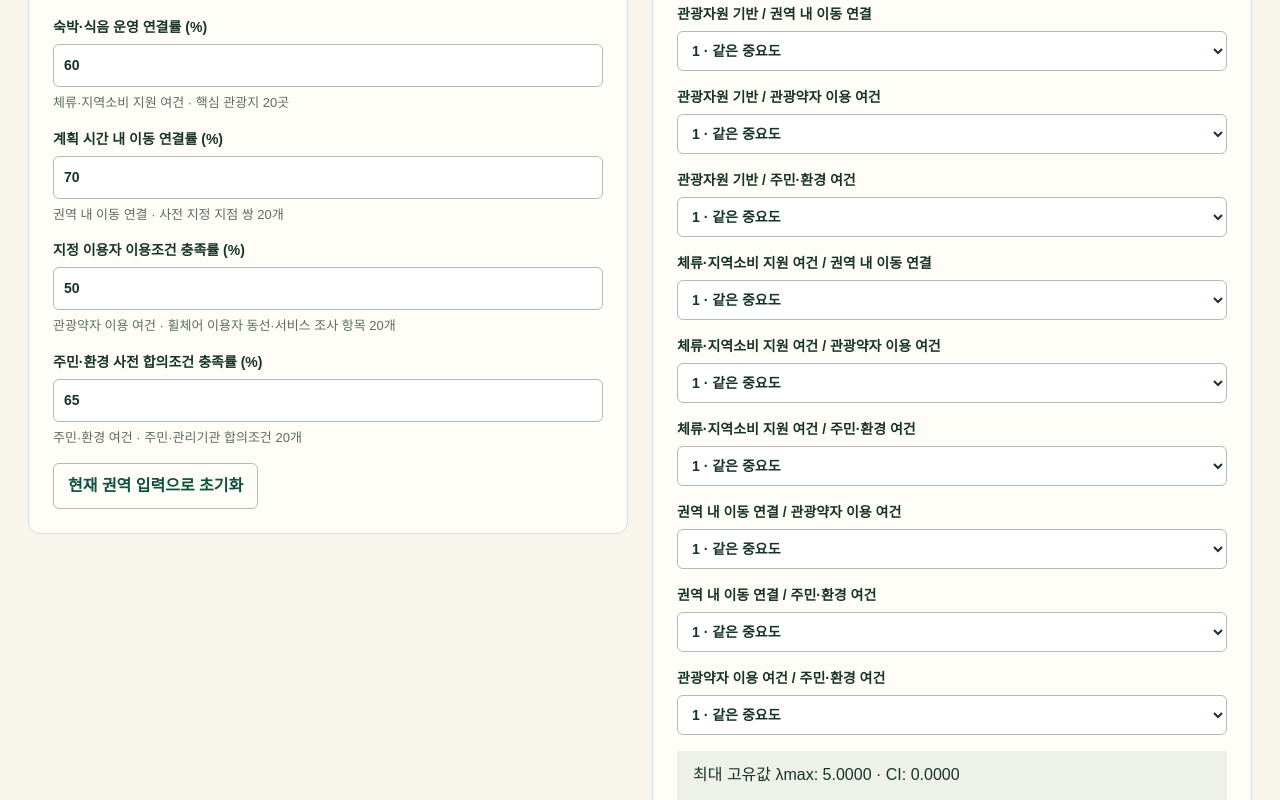
Scenario: evaluation laboratory › uses edited independent observations in both the total and the calculation trace
(page scrolled)
Replace the text in the number field labelled "주민·환경 사전 합의조건 충족률 (%) 주민·환경 여건 · 주민·관리기관 합의조건 20개" with "0" at (328,400), box x1=53 y1=379 x2=603 y2=422
(page scrolled)
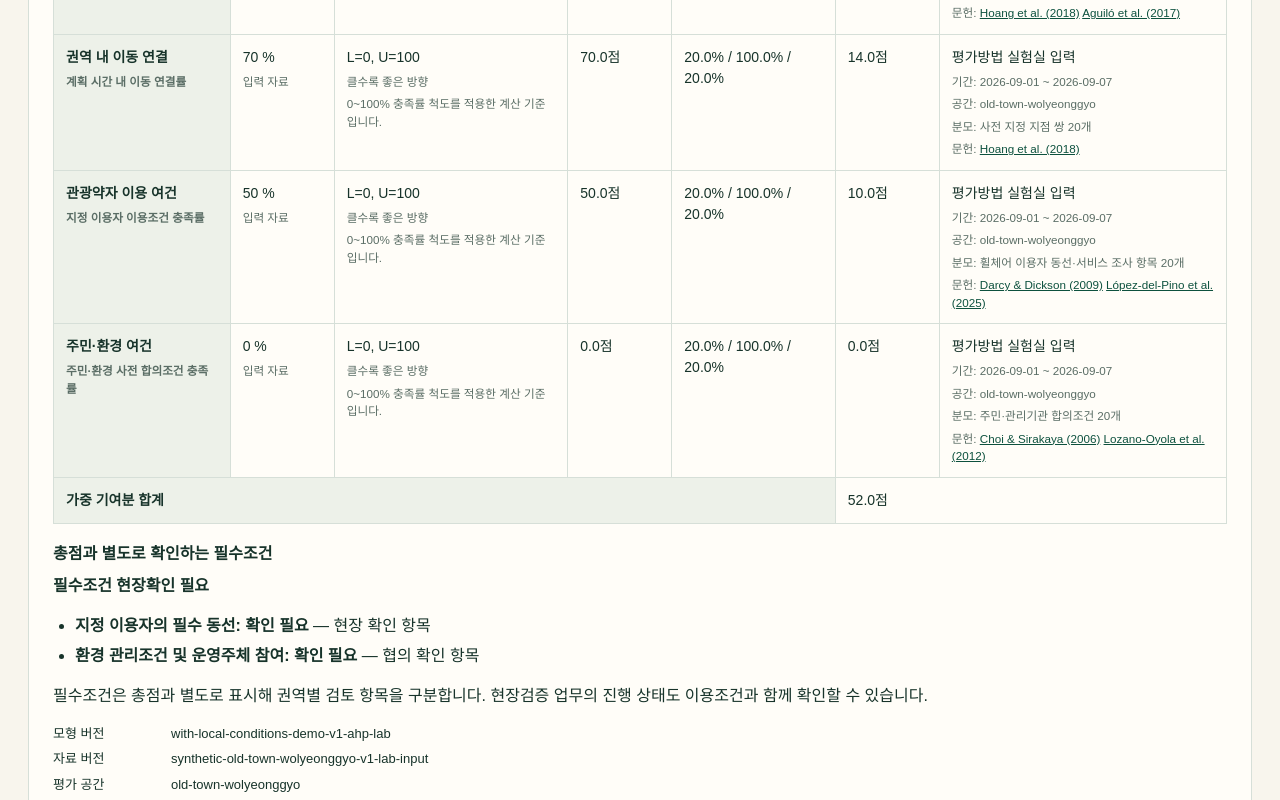
expect the text "0.0점" is shown 2 times: met, box x1=568 y1=324 x2=672 y2=477; x1=835 y1=324 x2=939 y2=477
expect the text "0 %" is shown: met, box x1=243 y1=338 x2=267 y2=354
